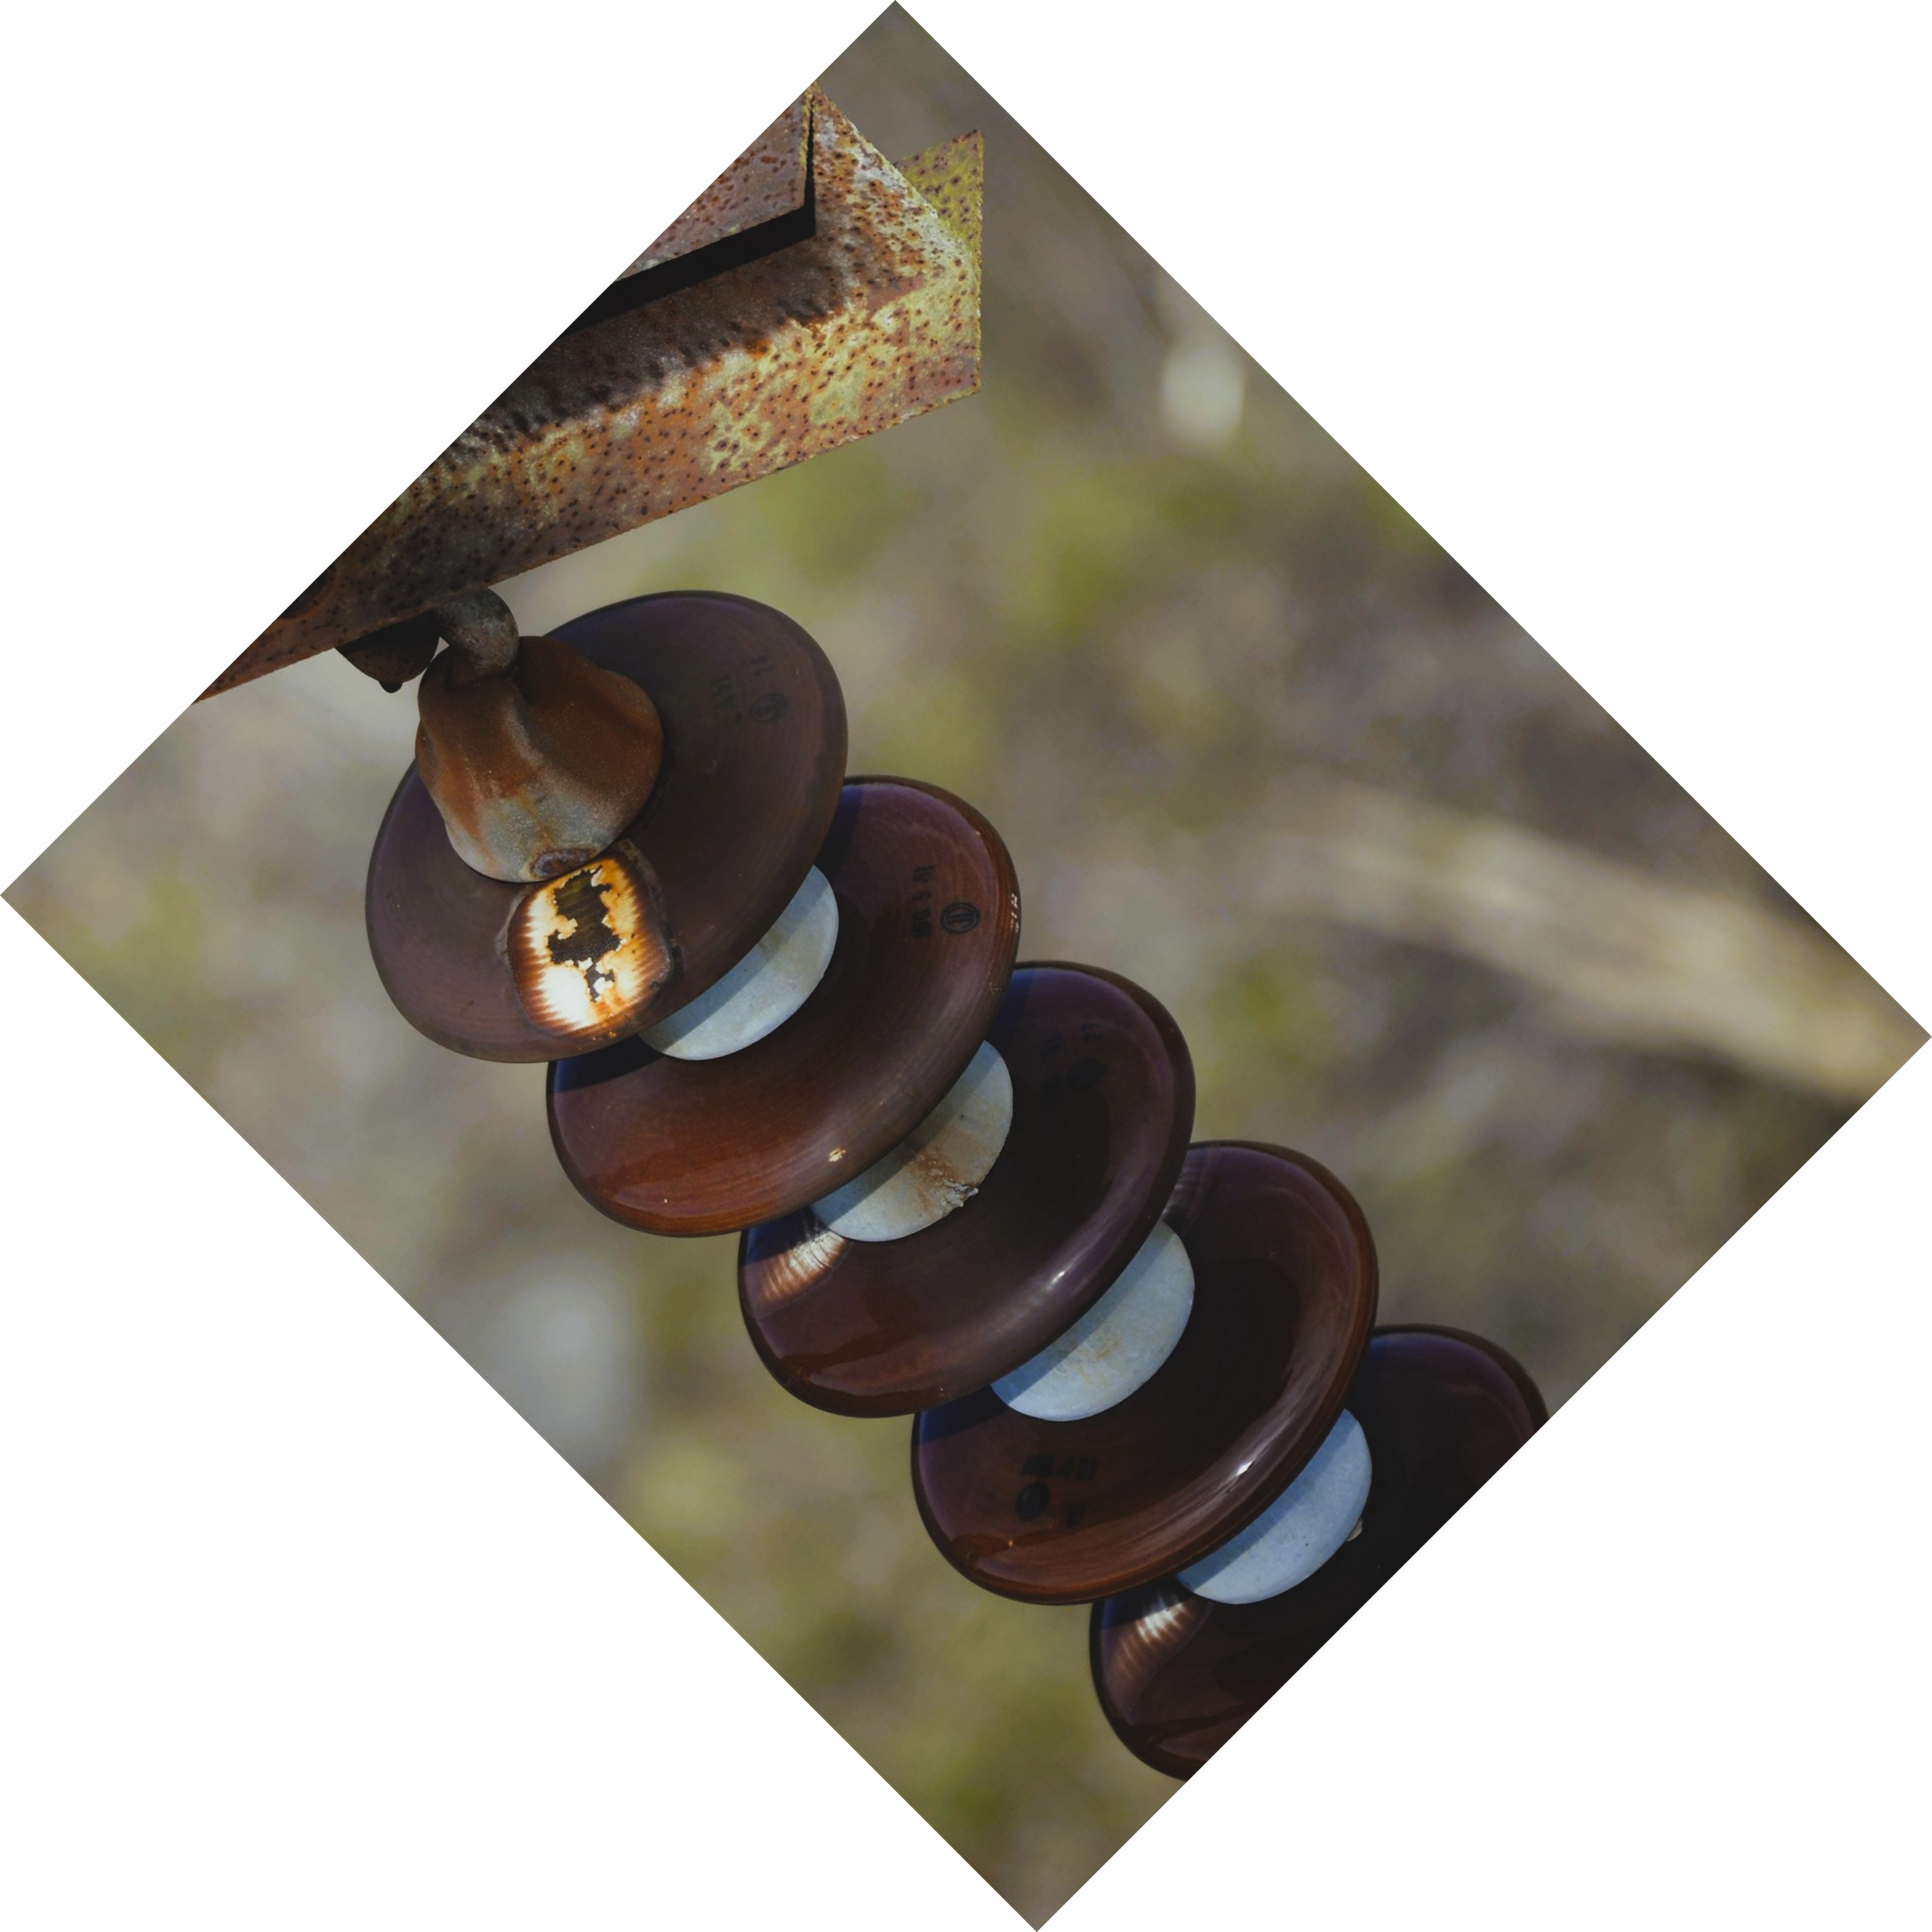Insulator flashover: (345, 571, 862, 1069)
